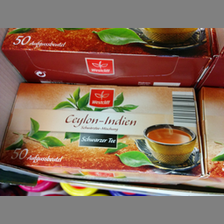tea: (2, 81, 205, 184)
